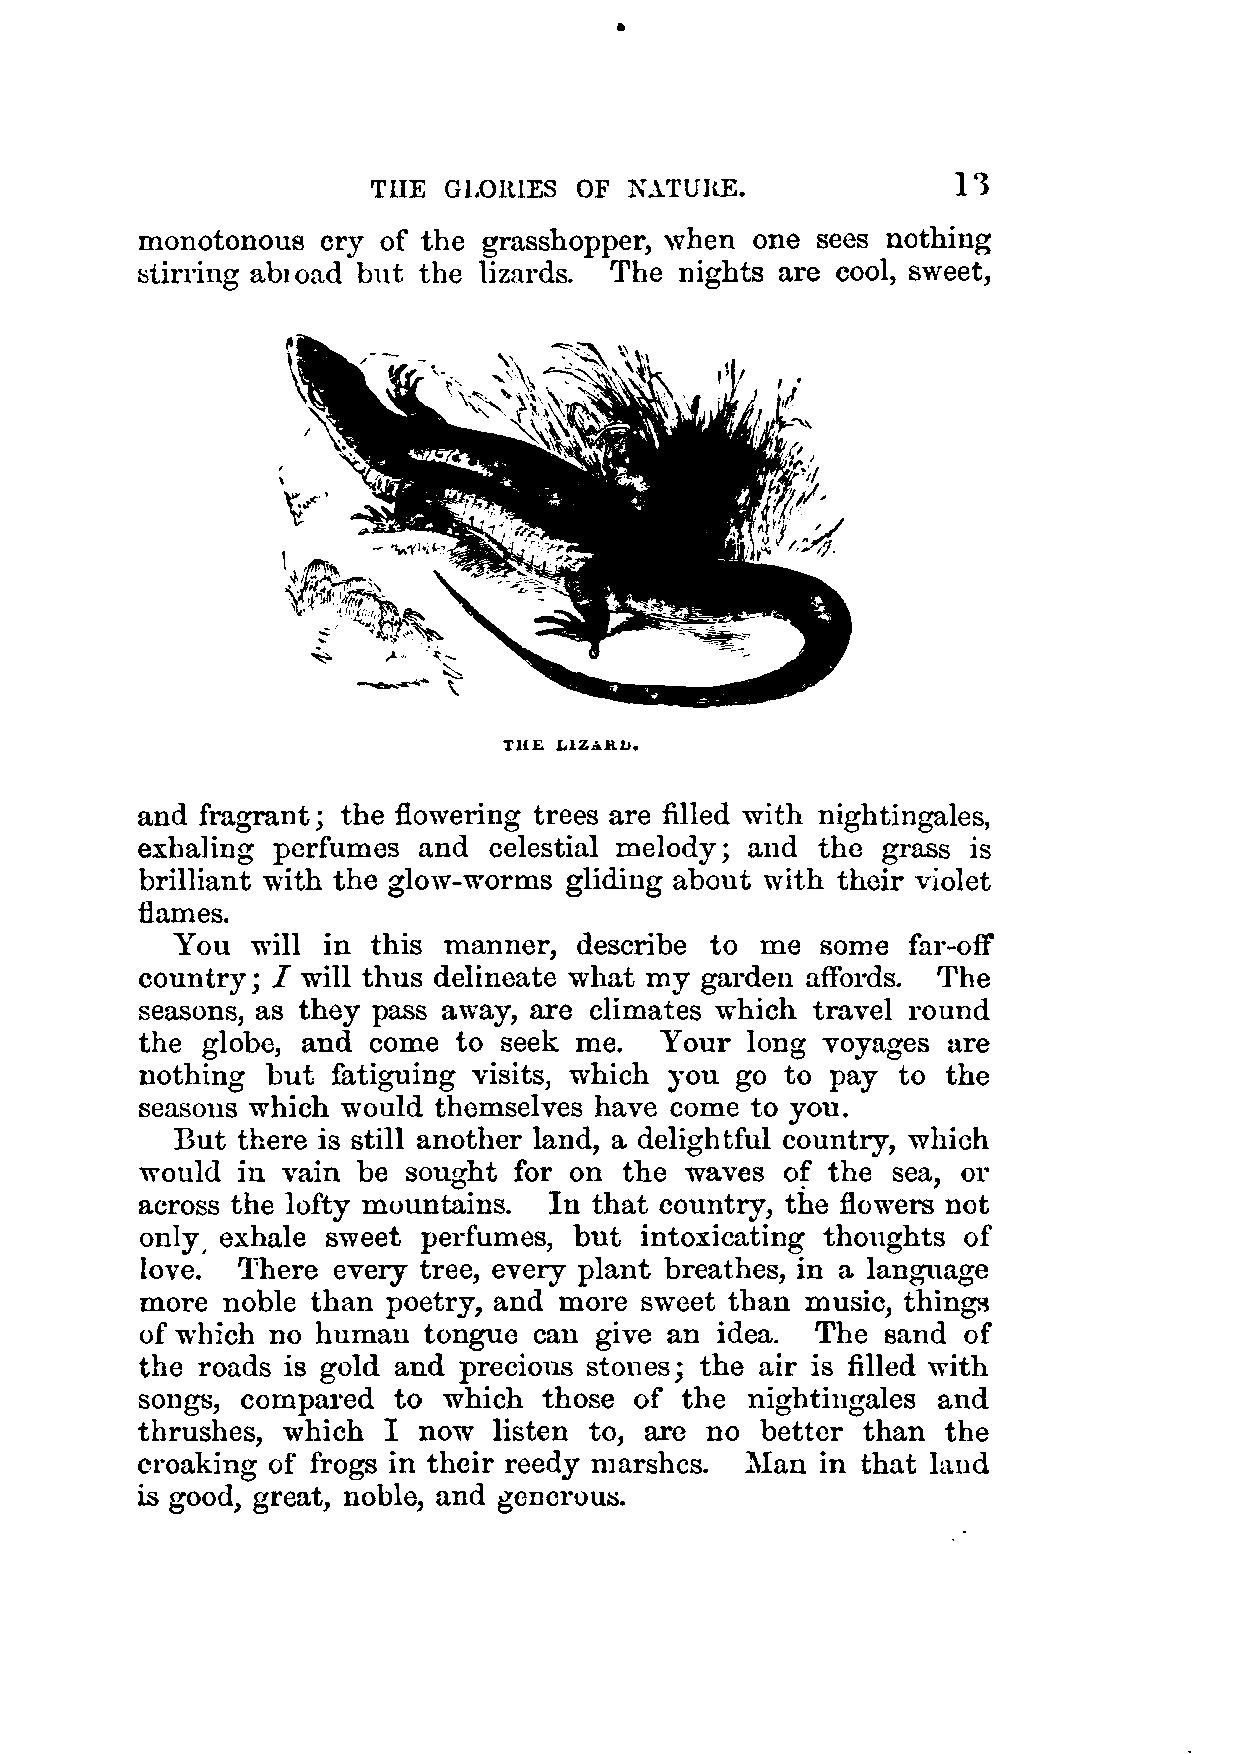content: (132, 221, 992, 1515)
content_chapter: (366, 176, 747, 201)
content_pagenumber: (946, 160, 994, 203)
